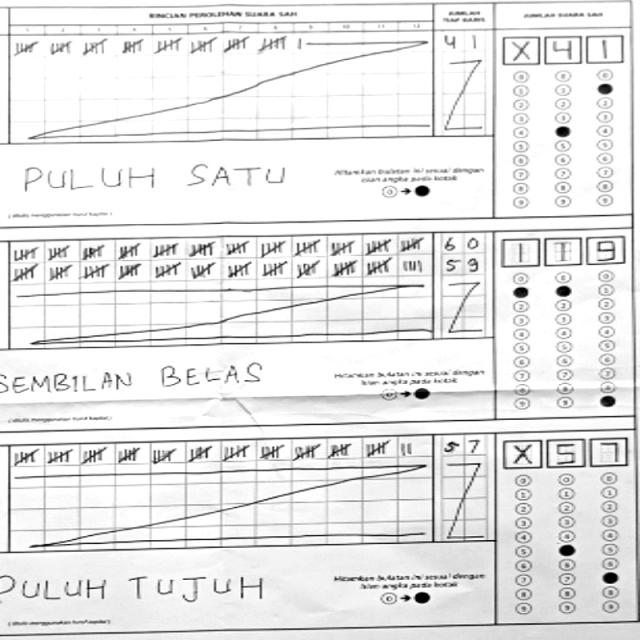Suara: (498, 232, 628, 270), (502, 434, 631, 472), (498, 29, 627, 66)
